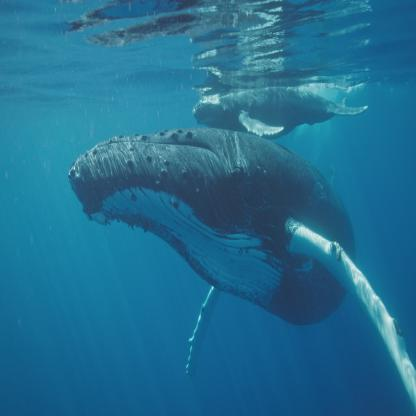blue_whale: (66, 73, 416, 409)
